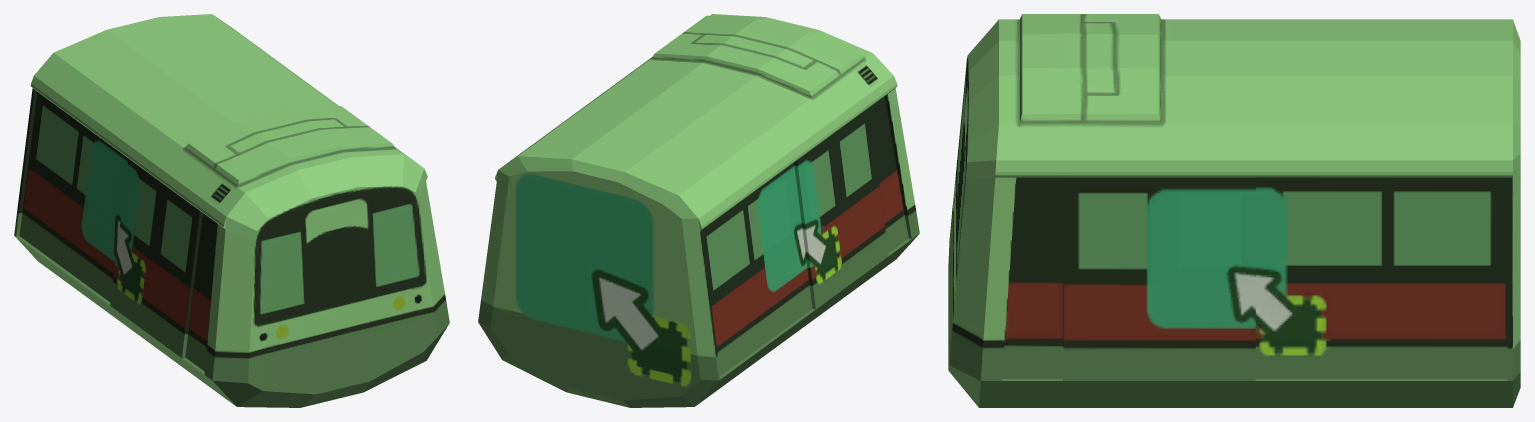
File: MovingPlatformMRT_Grow.fbx
3 views of the same model, side by side, from view 1: azimuth 30°, elevation 25°; view 2: azimuth 150°, elevation 25°; view 3: azimuth 270°, elevation 25° (orthographic). The views are drawn at different scales.
Parts seen in each view (by area): view 1: Cube.016; view 2: Cube.016; view 3: Cube.016.
Boxes of the visible parts, <box> form: Cube.016: <box>14,14,449,407</box>; Cube.016: <box>478,14,919,407</box>; Cube.016: <box>948,14,1520,407</box>.
Bounding box in the file's own units: 276 × 263 × 430.
